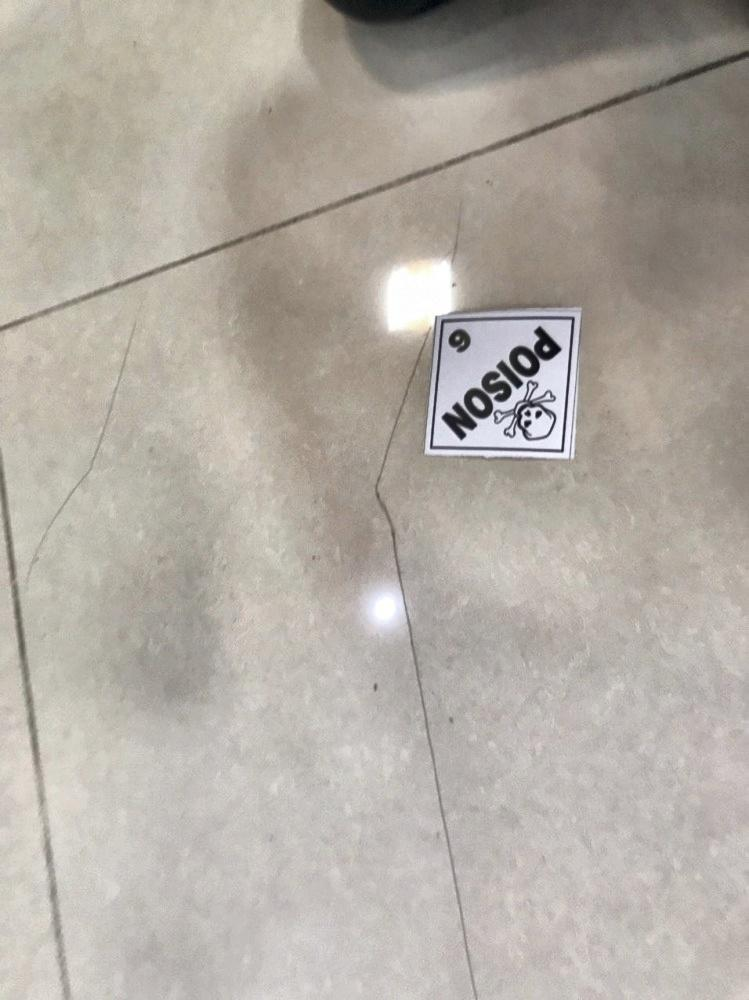poison: (425, 309, 584, 459)
